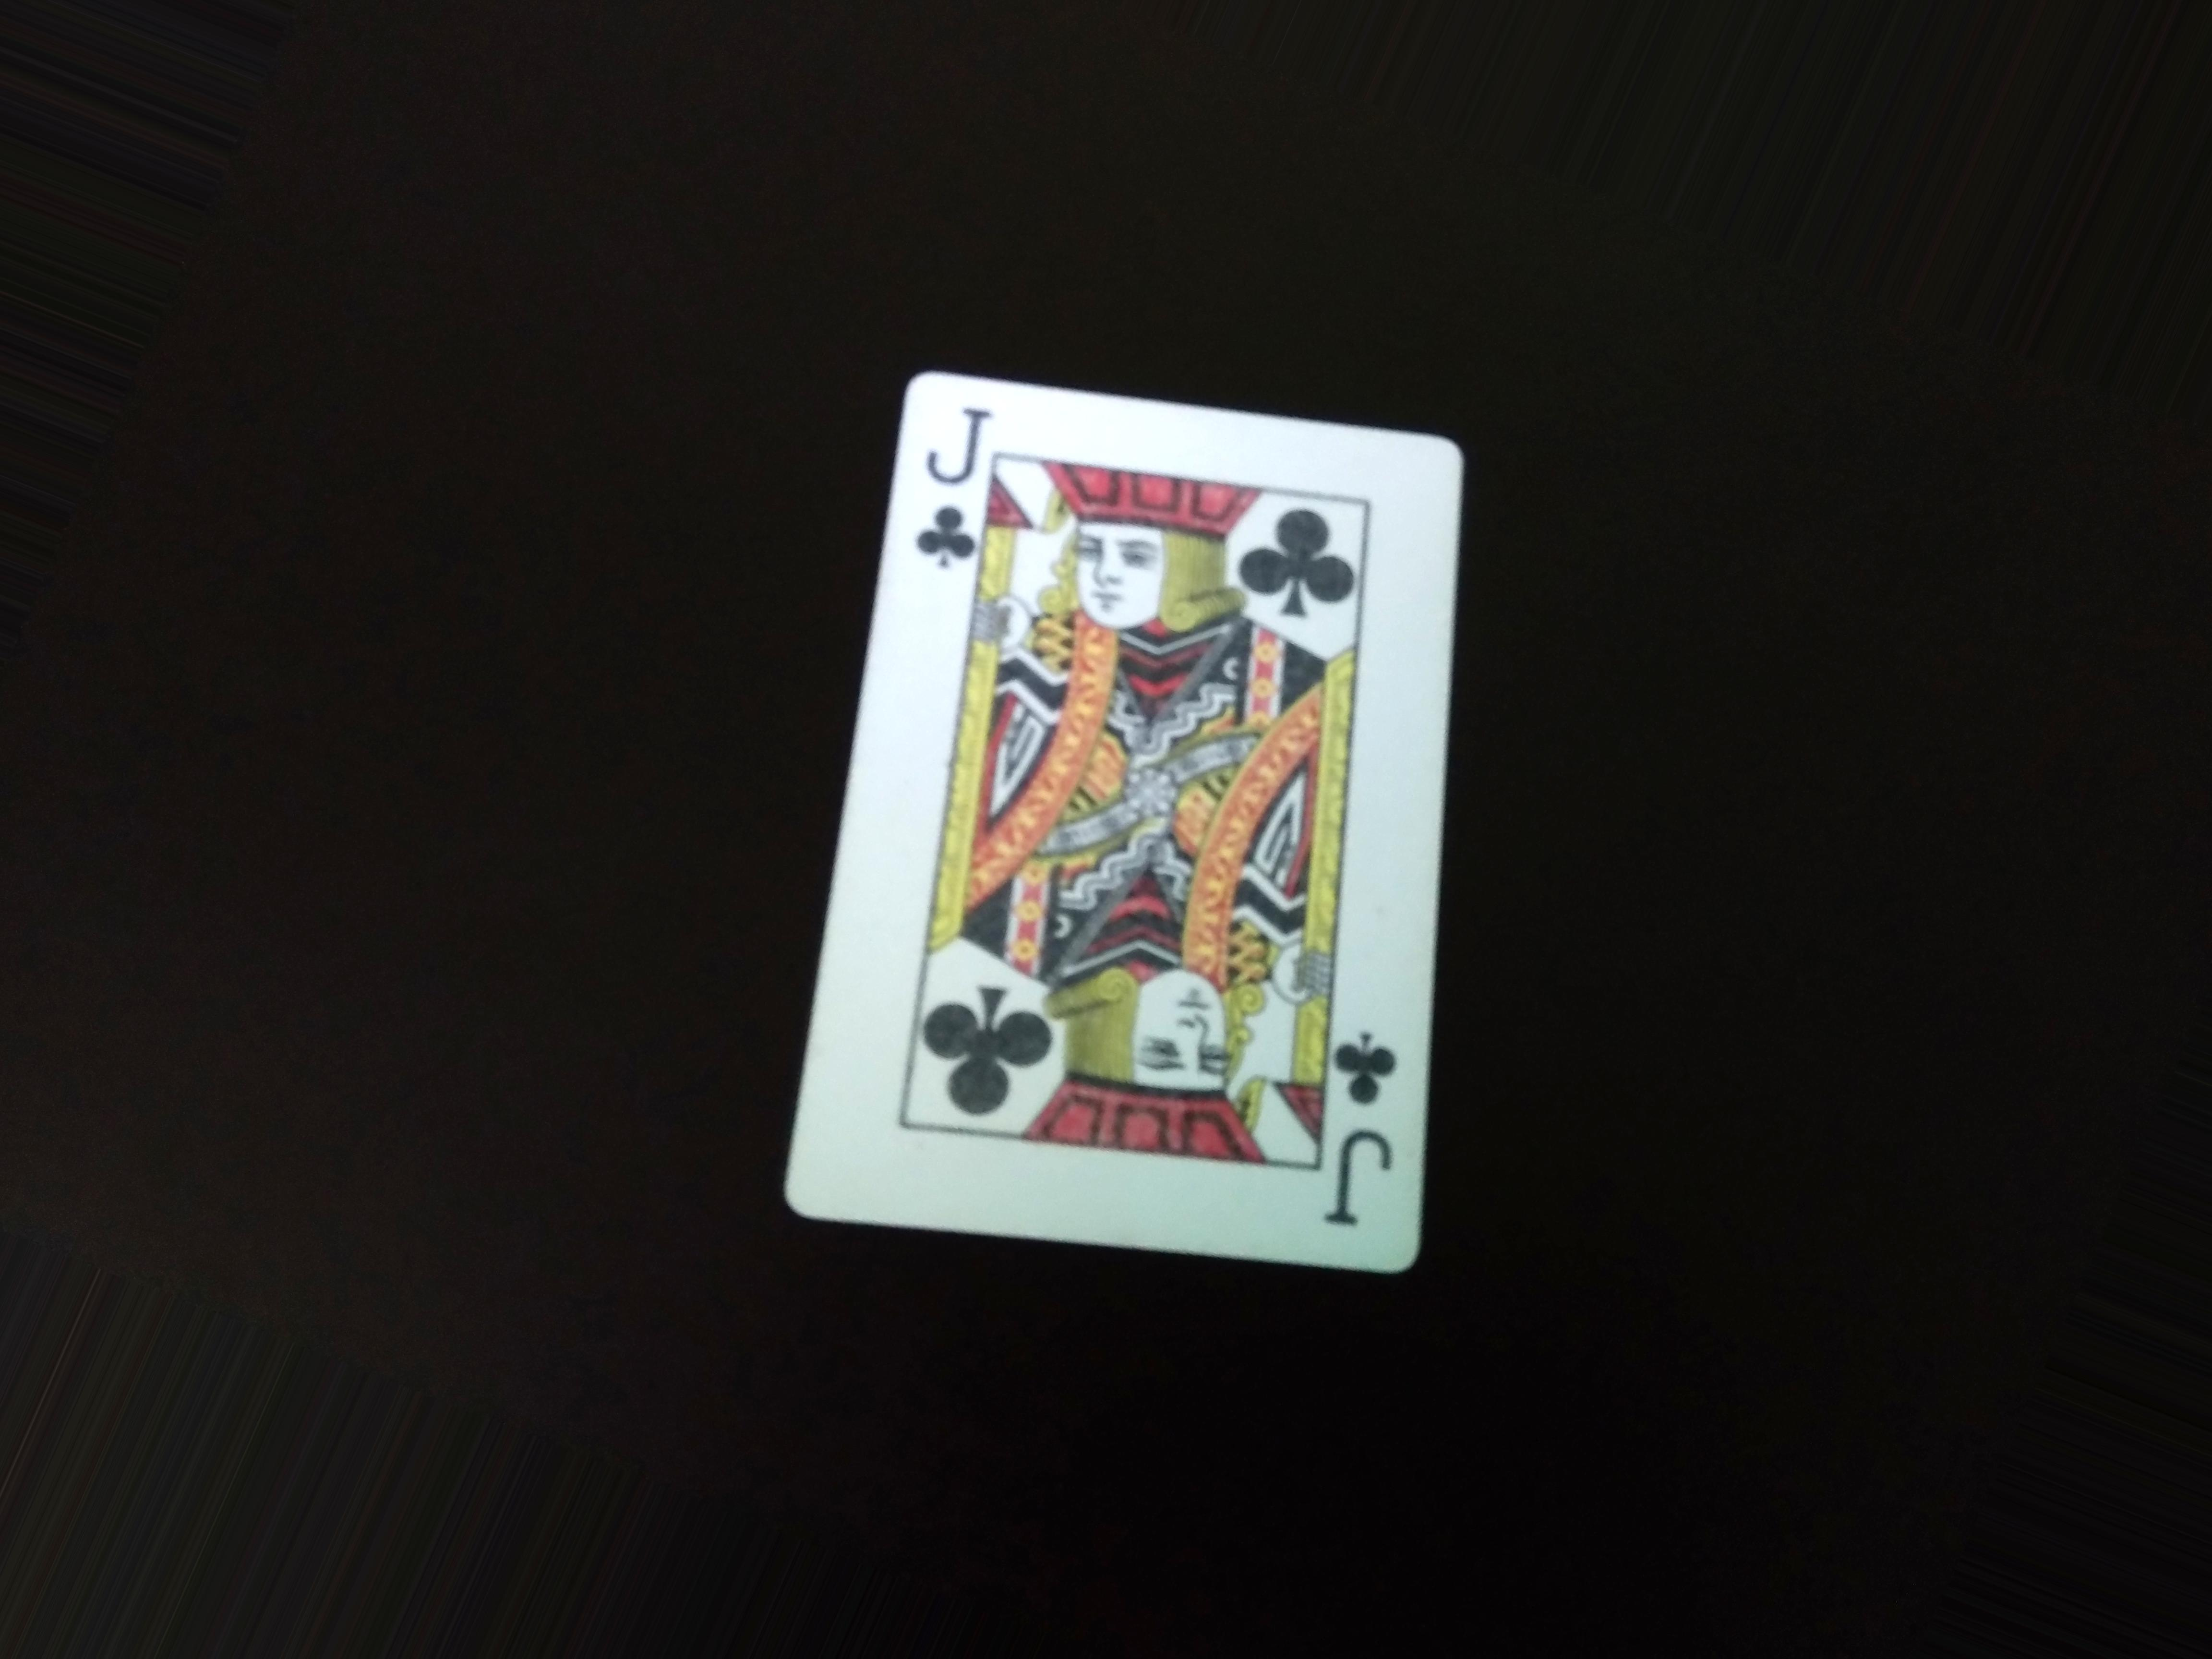JC: (916, 390, 995, 586)
